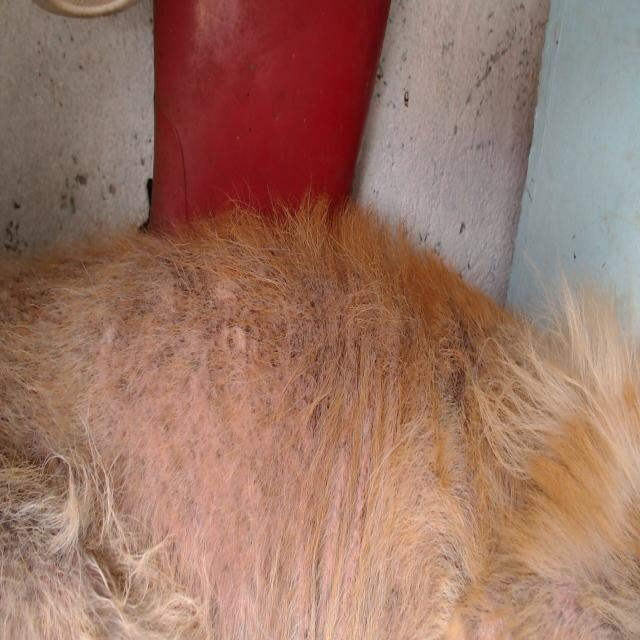demodicosis: (127, 280, 367, 580)
